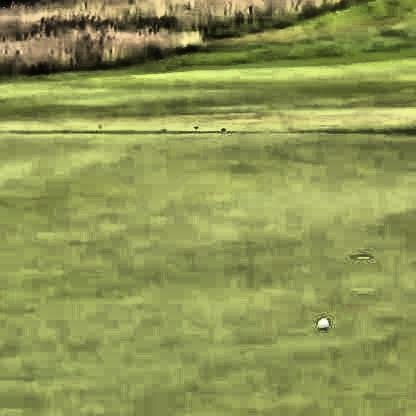golfball: (314, 313, 328, 328)
